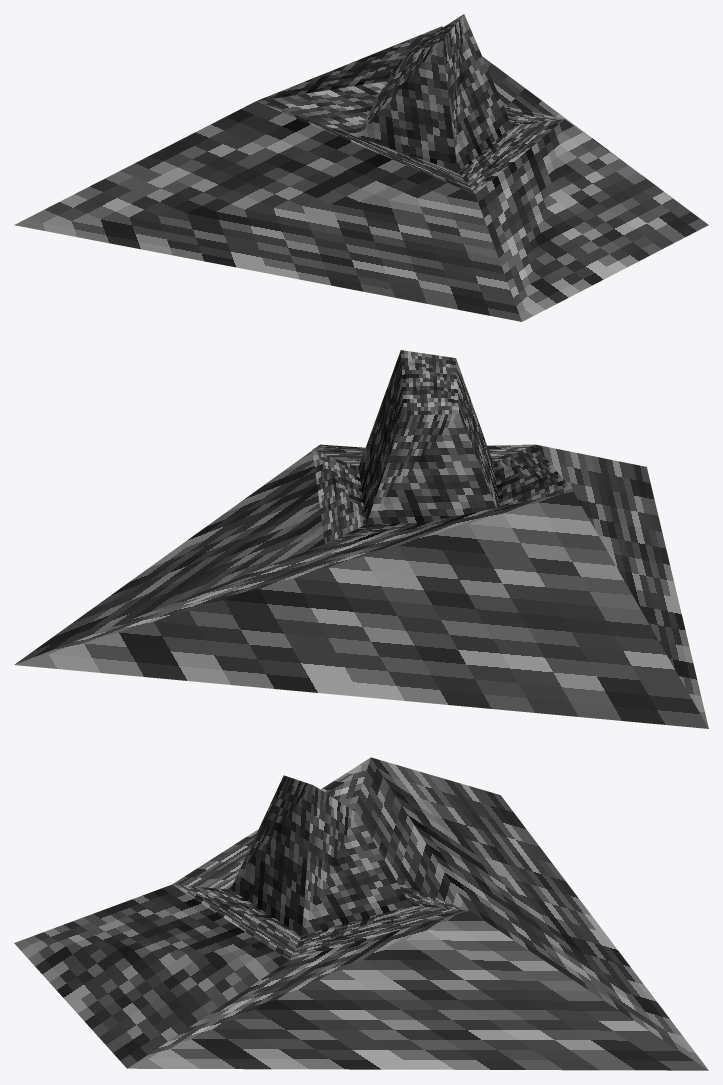
The model's file is dome1.obj.
3 views of the same model, one above another, from view 1: azimuth 30°, elevation 25°; view 2: azimuth 150°, elevation 25°; view 3: azimuth 270°, elevation 25° (orthographic). The views are drawn at different scales.
Parts seen in each view (by area): view 1: Cube; view 2: Cube; view 3: Cube.
Part boxes in pixels (box(x1,y1,x2,y2)): Cube: box(14, 14, 708, 321); Cube: box(14, 350, 708, 728); Cube: box(14, 757, 708, 1070).
Bounding box in the file's own units: 2.34 × 0.7953 × 2.5.
Materials: 1 (1 with a texture image).
